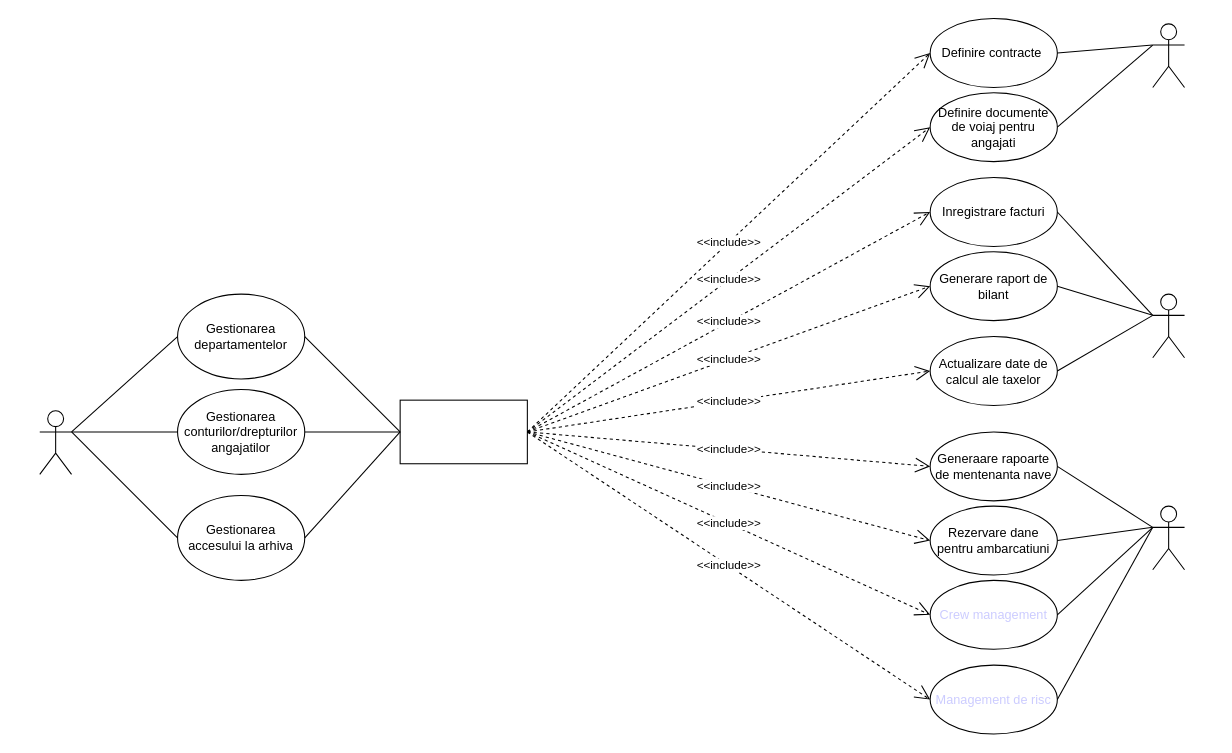
The diagram is 1232 pixels wide and 753 high, and some of its shapes have lost their labels. Here are the shapes that lost their labels. From the top down, the centre of each, then its label:
At point (1168, 55): "Angajat juridic".
At point (1168, 325): "Angajat contabil".
At point (55, 442): "Administrator".
At point (463, 431): "Sistem de gestiune al serviciilor de productie si suport".
At point (1168, 537): "Manager".
